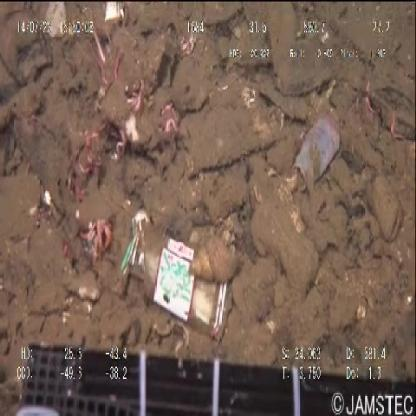Rác: (112, 207, 234, 346), (291, 113, 341, 191)
